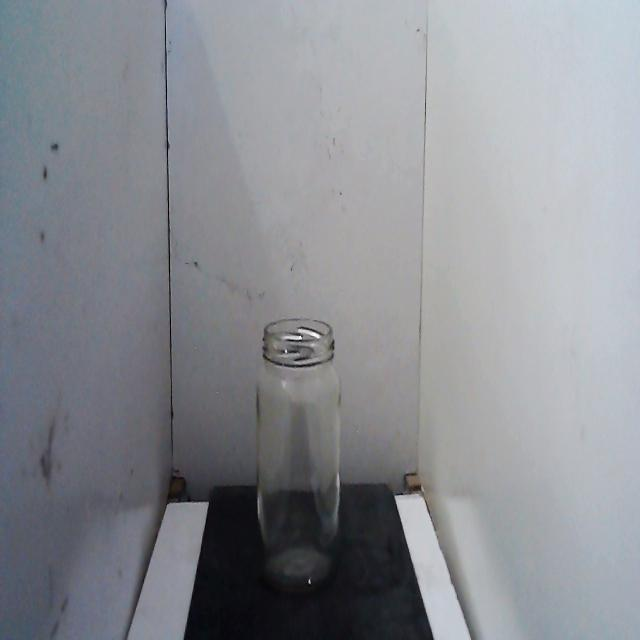vidro: (248, 308, 352, 614)
